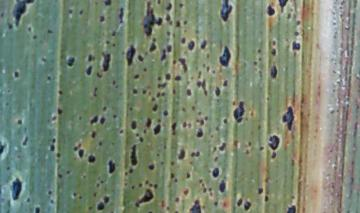tarspot: (143, 1, 162, 36), (13, 1, 34, 28), (135, 187, 154, 207), (282, 104, 294, 131), (232, 100, 244, 126), (10, 179, 22, 200), (220, 1, 232, 21), (219, 48, 231, 67), (267, 134, 280, 151), (130, 143, 139, 167), (126, 44, 135, 67), (101, 52, 111, 72), (178, 57, 188, 73), (189, 200, 201, 213), (107, 158, 116, 174), (201, 78, 209, 96), (269, 64, 277, 80), (266, 5, 276, 17), (118, 8, 125, 24), (159, 48, 167, 62), (87, 153, 97, 164), (66, 55, 75, 67), (1, 140, 7, 158), (279, 1, 288, 13), (218, 179, 226, 192), (20, 136, 30, 146), (218, 141, 228, 151), (195, 127, 204, 138), (187, 39, 195, 51), (85, 66, 94, 76), (149, 43, 158, 53), (292, 41, 301, 51), (130, 119, 138, 130), (157, 81, 168, 89), (200, 39, 208, 50), (213, 86, 221, 97), (244, 200, 252, 211), (94, 71, 104, 79), (90, 115, 98, 125), (184, 88, 192, 98), (212, 168, 220, 178), (287, 205, 297, 213), (153, 123, 160, 134), (235, 197, 242, 208), (13, 70, 21, 79), (178, 149, 184, 161), (97, 202, 104, 212), (165, 12, 172, 22), (145, 118, 152, 128), (285, 12, 292, 22), (257, 185, 264, 195), (196, 69, 203, 79), (78, 148, 84, 159), (92, 86, 98, 97), (172, 123, 177, 136), (98, 15, 106, 23), (56, 106, 64, 114), (99, 116, 107, 124), (136, 54, 144, 62), (147, 163, 155, 171), (67, 7, 74, 16), (48, 144, 55, 153), (103, 195, 110, 204), (270, 48, 277, 57), (270, 38, 277, 47), (270, 151, 277, 160), (222, 79, 229, 88), (6, 23, 14, 30), (77, 8, 85, 15), (212, 155, 219, 163), (103, 1, 112, 7), (87, 53, 93, 62), (175, 19, 181, 28), (152, 103, 158, 112), (166, 44, 172, 53), (180, 36, 186, 45), (201, 186, 207, 195), (211, 144, 217, 153), (26, 25, 33, 32), (51, 114, 58, 121), (50, 136, 57, 143), (55, 151, 62, 158), (165, 30, 172, 37), (175, 75, 182, 82), (293, 30, 300, 37), (183, 190, 190, 197), (244, 148, 251, 155), (204, 53, 211, 60), (16, 119, 24, 125), (73, 144, 79, 152), (102, 105, 108, 113), (118, 127, 124, 135), (153, 182, 159, 190), (295, 19, 301, 27), (222, 117, 228, 125), (81, 172, 87, 180), (166, 73, 171, 82), (191, 103, 196, 112), (110, 31, 117, 37), (46, 75, 52, 82), (41, 57, 48, 63), (25, 197, 32, 203), (48, 198, 55, 204), (100, 178, 106, 185), (97, 140, 103, 147), (111, 112, 117, 119), (166, 4, 172, 11), (133, 73, 140, 79), (138, 137, 145, 143), (150, 96, 157, 102), (157, 75, 163, 82), (123, 170, 129, 177), (137, 182, 144, 188), (196, 81, 202, 88), (198, 120, 205, 126), (155, 118, 162, 124), (264, 195, 269, 203), (204, 113, 209, 121), (257, 46, 262, 54), (111, 42, 117, 48), (58, 90, 64, 96), (132, 89, 138, 95), (141, 128, 147, 134), (163, 110, 169, 116), (182, 122, 188, 128), (170, 160, 176, 166), (258, 145, 264, 151), (105, 38, 110, 45), (35, 206, 40, 213), (47, 189, 52, 196), (142, 89, 147, 96), (172, 59, 177, 66), (172, 88, 177, 95), (129, 167, 134, 174), (186, 172, 191, 179), (175, 195, 180, 202), (166, 205, 171, 212), (207, 186, 212, 193), (247, 140, 252, 147), (162, 143, 167, 150), (123, 180, 128, 187), (206, 65, 210, 73), (216, 125, 220, 133), (1, 12, 6, 18), (5, 166, 11, 171), (66, 169, 71, 175), (72, 191, 77, 197), (78, 195, 83, 201), (179, 2, 184, 8), (143, 67, 148, 73), (129, 106, 134, 112), (191, 151, 196, 157), (253, 60, 258, 66), (182, 107, 187, 113), (159, 160, 165, 165), (47, 29, 54, 33), (93, 191, 97, 198), (92, 131, 96, 138), (157, 91, 161, 98), (78, 115, 82, 122), (58, 173, 63, 178), (88, 206, 93, 211), (135, 133, 140, 138), (183, 21, 188, 26), (170, 173, 175, 178), (214, 201, 219, 206), (155, 153, 160, 158), (197, 111, 202, 116), (96, 183, 101, 188), (32, 35, 38, 39), (156, 1, 162, 5), (112, 79, 116, 85), (145, 179, 149, 185), (196, 151, 200, 157), (152, 38, 157, 42), (162, 92, 166, 97), (131, 186, 136, 190), (199, 178, 203, 183), (147, 210, 153, 213), (175, 178, 178, 183), (174, 211, 180, 213)
